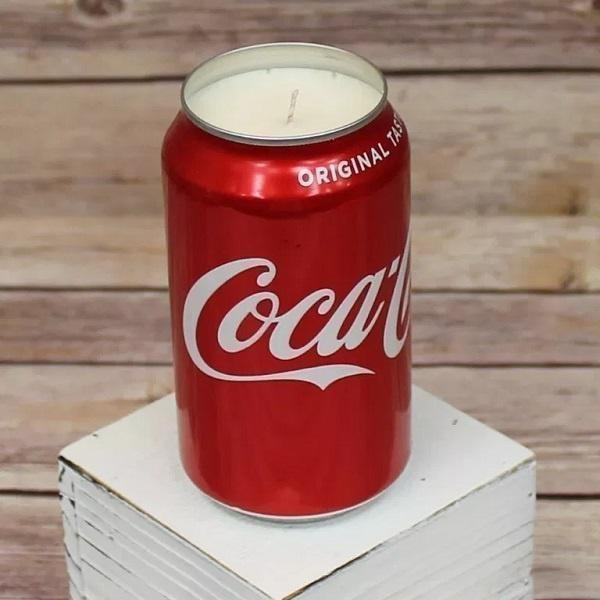tin can: (161, 40, 414, 523)
